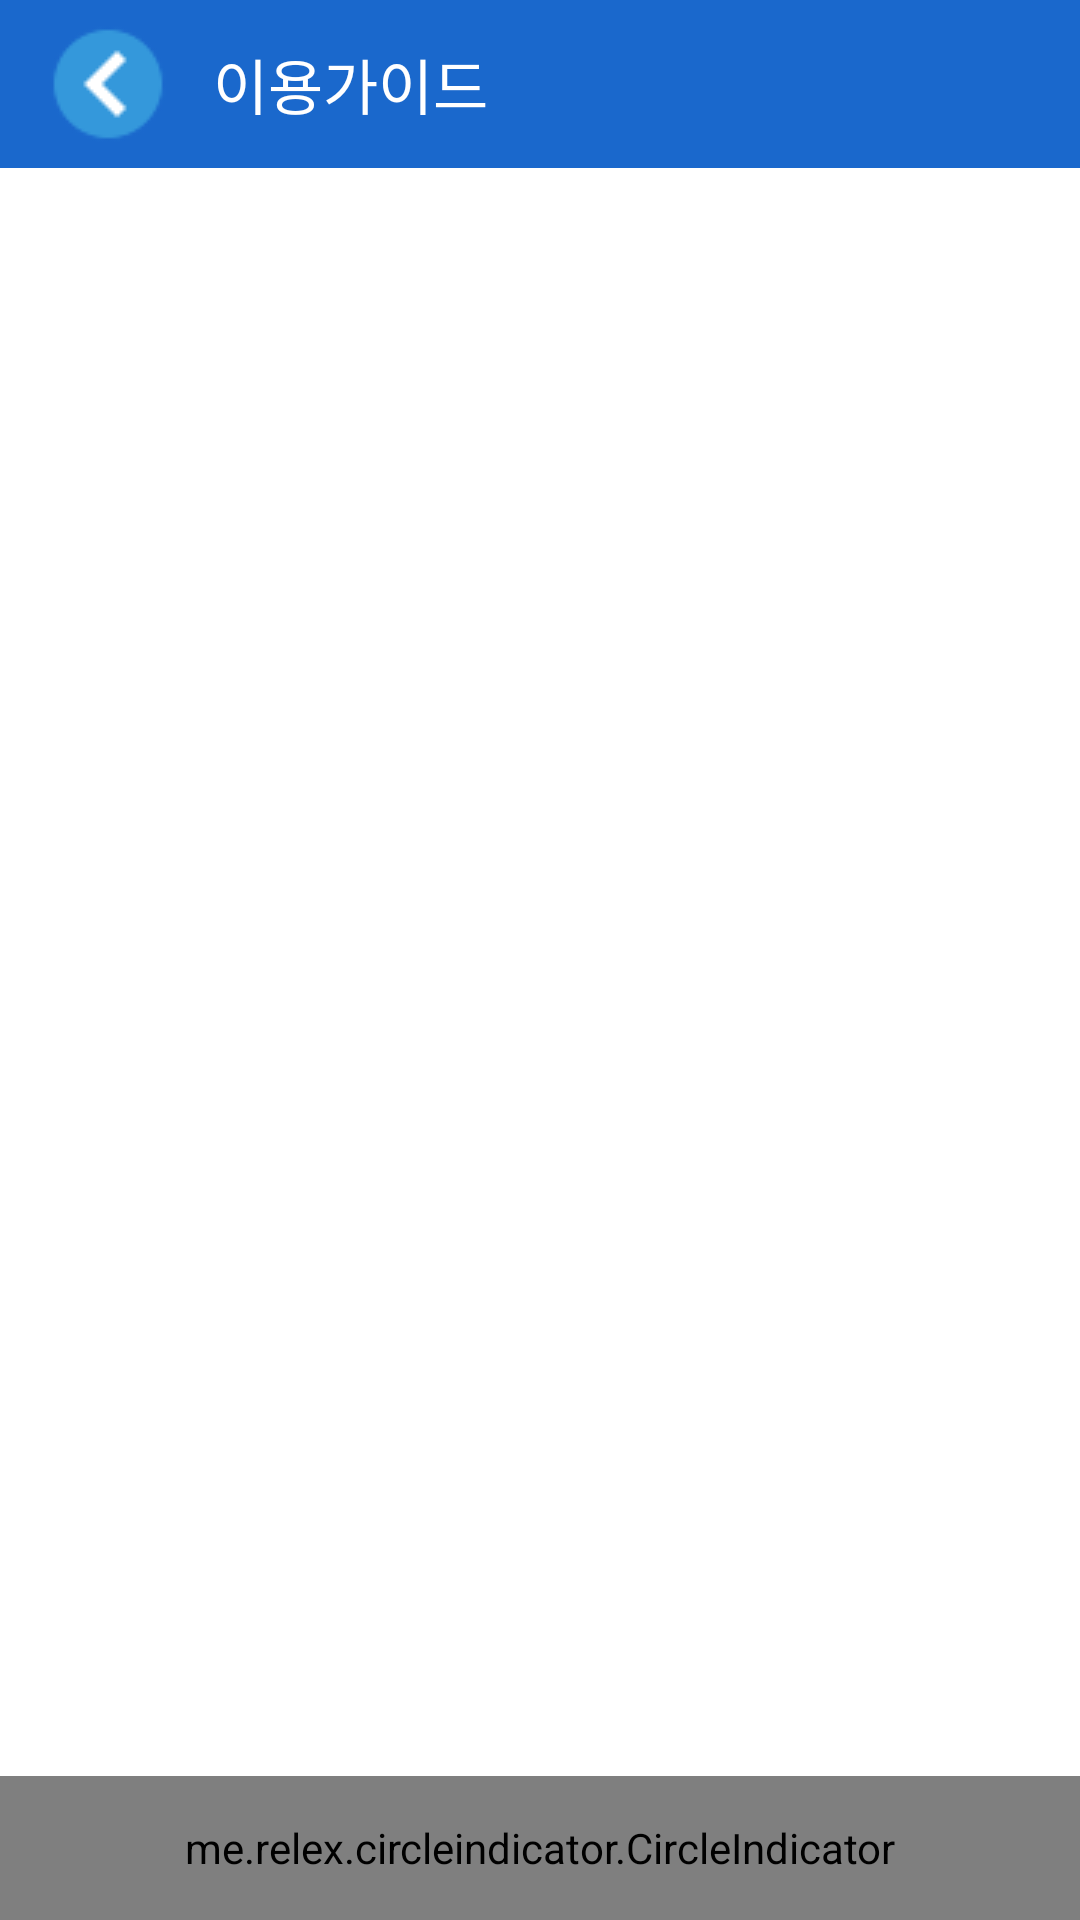

Named icons in this screenshot (1080x1920) and their centers, (x=x, y=y):
back to: (x=108, y=84)
